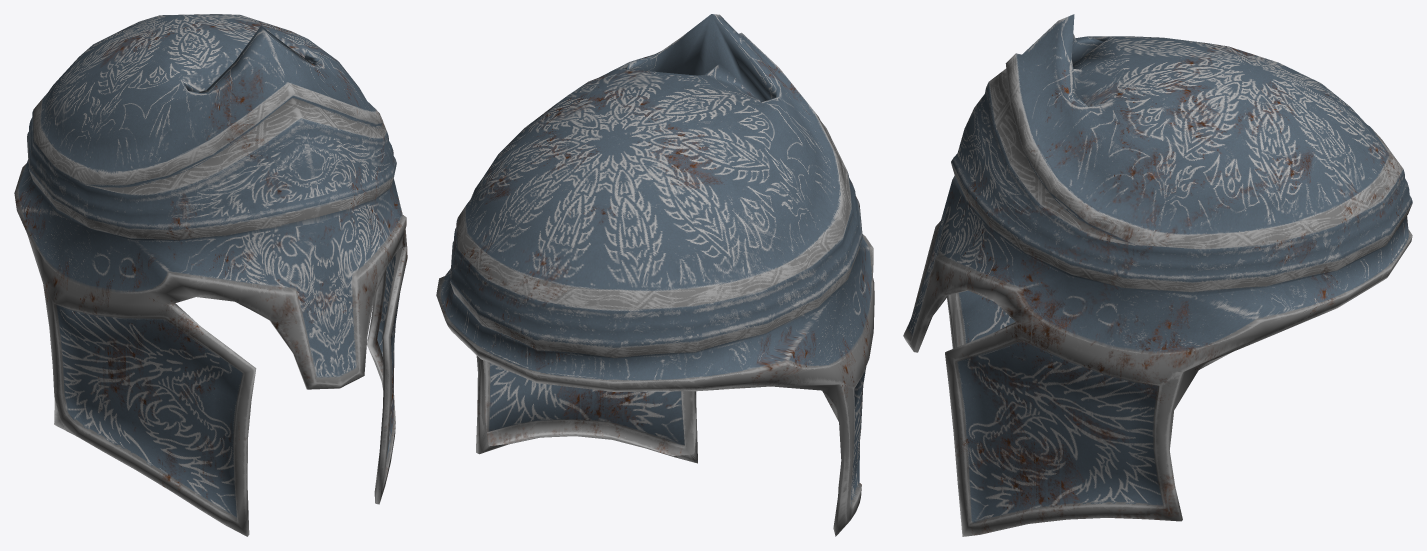
Rendered from Helmet.obj.
3 views of the same model, side by side, from view 1: azimuth 30°, elevation 25°; view 2: azimuth 150°, elevation 25°; view 3: azimuth 270°, elevation 25° (orthographic). The views are drawn at different scales.
Visible parts, largest first — view 1: HELMET; view 2: HELMET; view 3: HELMET.
Part boxes in pixels (x1=…): HELMET: x1=14, y1=14, x2=407, y2=536; HELMET: x1=436, y1=14, x2=874, y2=536; HELMET: x1=903, y1=14, x2=1412, y2=536.
Bounding box in the file's own units: 2.02 × 2.63 × 2.49.
Materials: 1 (1 with a texture image).
